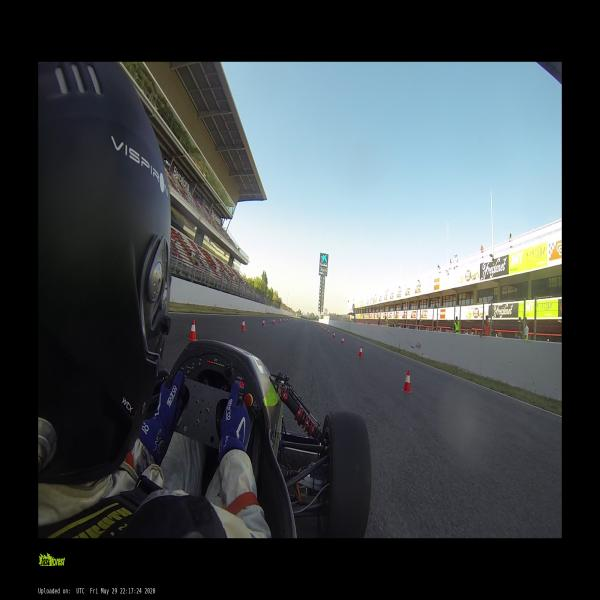orange_cone: (401, 370, 412, 394), (187, 319, 197, 341), (358, 346, 363, 357), (241, 320, 245, 330), (341, 337, 344, 345), (262, 319, 265, 327), (327, 329, 330, 334), (273, 318, 275, 325), (333, 333, 335, 338), (280, 318, 282, 323), (284, 318, 286, 323), (324, 327, 326, 331), (289, 318, 291, 321), (287, 318, 288, 323), (322, 326, 323, 328), (320, 325, 321, 327)
